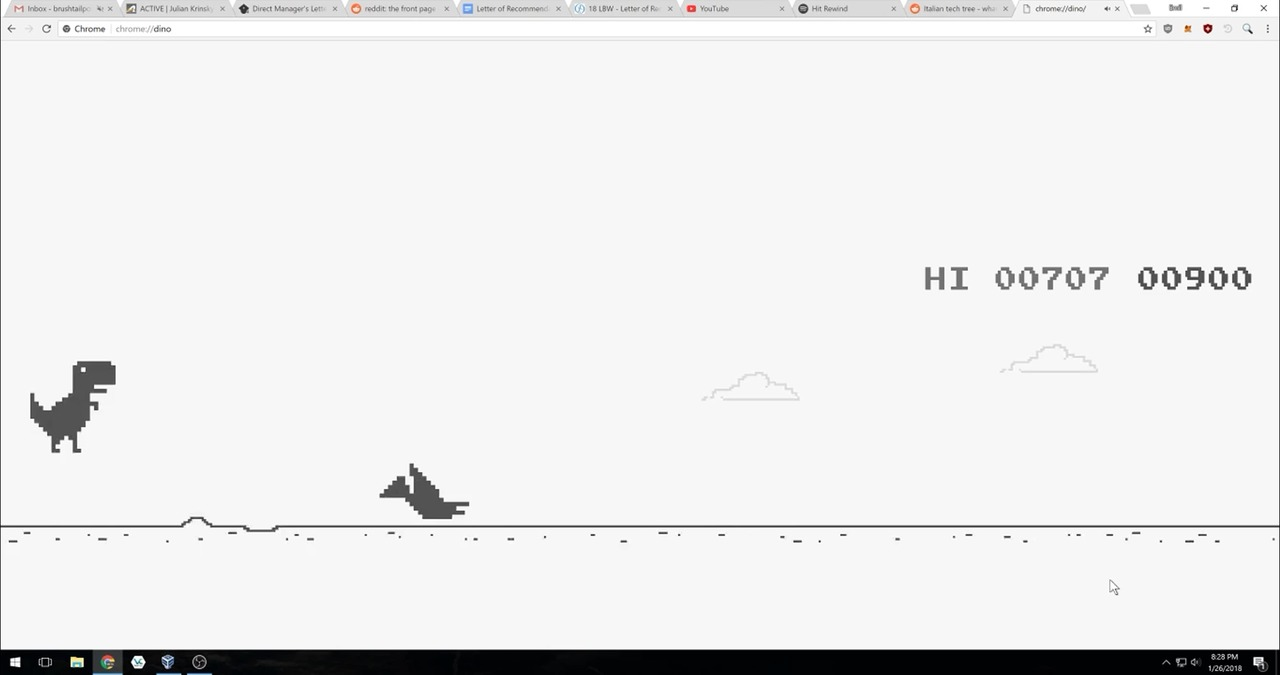bird: (380, 461, 469, 522)
dinosaur: (29, 357, 114, 454)
